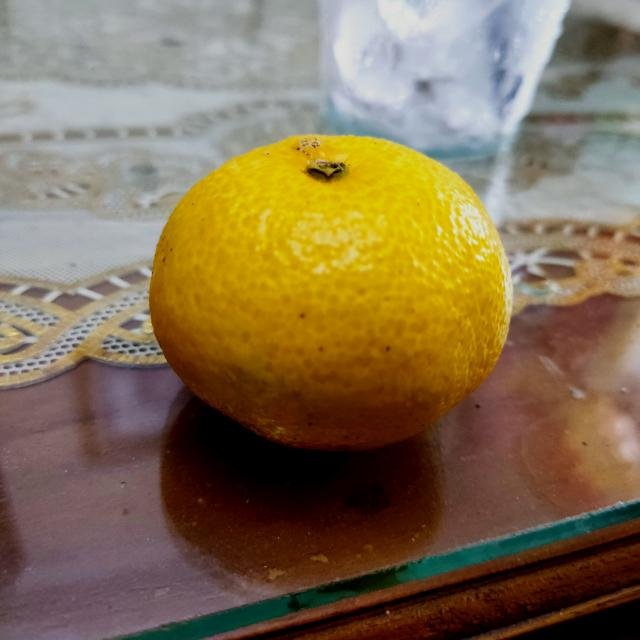orange: (148, 130, 512, 452)
